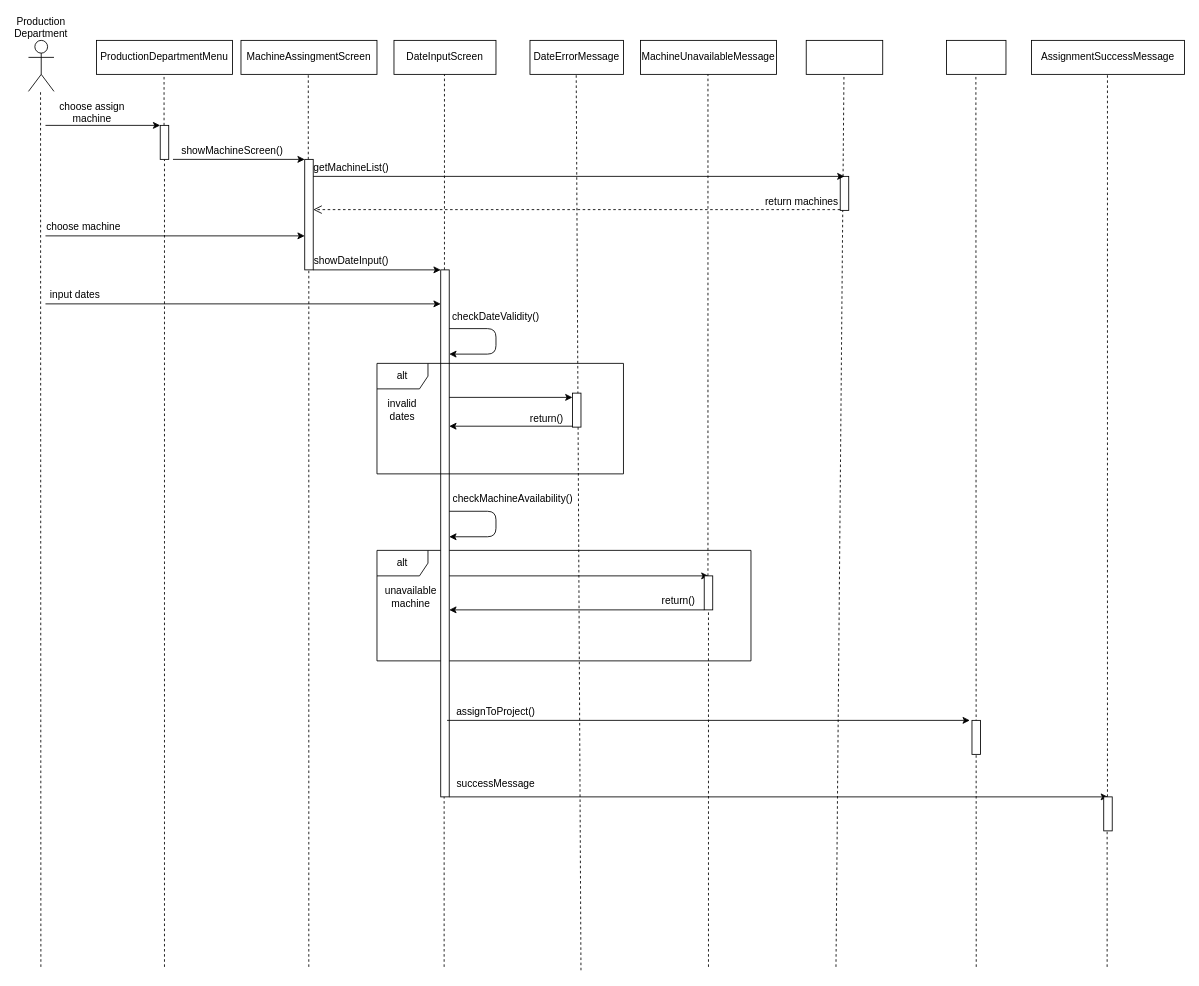
Some shapes in this 1199 by 986 pixel diagram are drawn without their labels. The box of each missing label's shape, as (x1, y1, x2, y2) in pixels:
Machine: (805, 40, 883, 74)
Project: (946, 40, 1006, 74)
